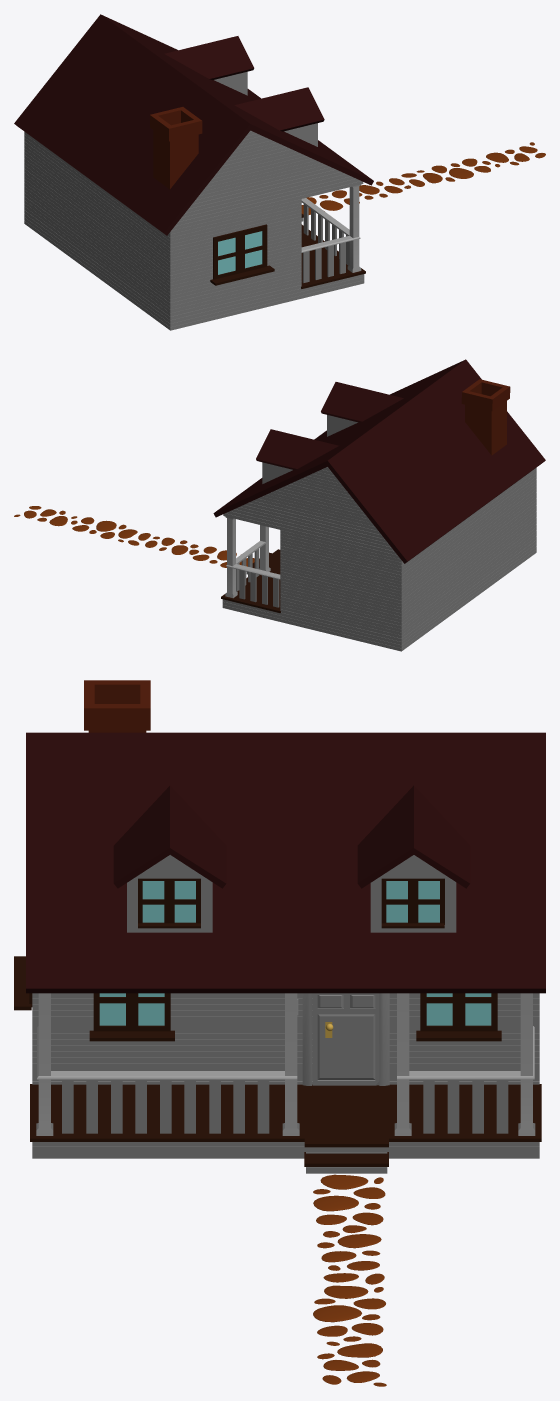
File: casa.FBX
3 views of the same model, one above another, from view 1: azimuth 30°, elevation 25°; view 2: azimuth 150°, elevation 25°; view 3: azimuth 270°, elevation 25° (orthographic). The views are drawn at different scales.
Visible parts, largest first — view 1: pCube95, pCube96, pCube48, pCube123, pCube118, pCube128, pCube102, pCube46, pCube103, pCube6, pCube7, pCube10 (+28 smaller); view 2: pCube95, pCube96, pCube48, pCube128, pCube118, pCube47, pCube102, pCube103, pCube6, pCube7, pCube16, pCube26 (+27 smaller); view 3: pCube95, pCube6, pCube118, pCube128, pCube48, pCube99, pCube46, pCube47, pCube121, pCube122, pCube103, pCube61 (+21 smaller).
Part boxes in pixels (bbox=[...]): pCube95: bbox=[14, 14, 373, 235]; pCube96: bbox=[182, 130, 350, 217]; pCube48: bbox=[24, 213, 364, 330]; pCube123: bbox=[210, 224, 274, 285]; pCube118: bbox=[164, 36, 254, 95]; pCube128: bbox=[234, 87, 324, 146]; pCube102: bbox=[153, 130, 198, 189]; pCube46: bbox=[301, 184, 361, 272]; pCube103: bbox=[150, 107, 202, 141]; pCube6: bbox=[301, 224, 365, 288]; pCube7: bbox=[24, 210, 301, 320]; pCube10: bbox=[24, 196, 301, 306]; pCube95: bbox=[213, 359, 545, 563]; pCube96: bbox=[235, 467, 390, 546]; pCube48: bbox=[222, 543, 536, 651]; pCube128: bbox=[321, 382, 403, 436]; pCube118: bbox=[256, 429, 338, 483]; pCube47: bbox=[225, 516, 280, 598]; pCube102: bbox=[465, 401, 506, 455]; pCube103: bbox=[461, 379, 510, 411]; pCube6: bbox=[221, 549, 280, 612]; pCube7: bbox=[280, 540, 536, 641]; pCube16: bbox=[280, 502, 536, 603]; pCube26: bbox=[280, 476, 536, 578]; pCube95: bbox=[26, 732, 545, 993]; pCube6: bbox=[30, 1084, 541, 1147]; pCube118: bbox=[357, 785, 470, 932]; pCube128: bbox=[113, 785, 226, 932]; pCube48: bbox=[32, 1142, 539, 1173]; pCube99: bbox=[313, 993, 379, 1085]; pCube46: bbox=[36, 993, 299, 1135]; pCube47: bbox=[394, 993, 535, 1135]; pCube121: bbox=[416, 993, 501, 1041]; pCube122: bbox=[89, 993, 174, 1041]; pCube103: bbox=[84, 680, 150, 730]; pCube61: bbox=[423, 1079, 508, 1133].
Size of the model in its own units: 55.56 by 21.24 by 31.19.
